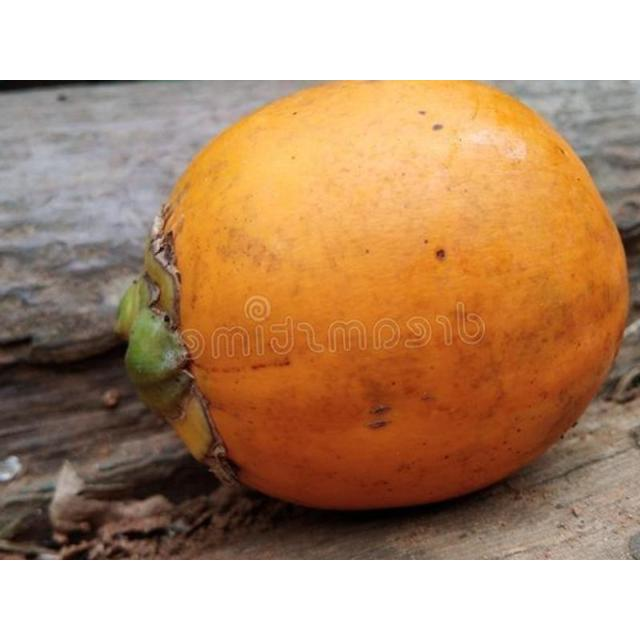good: (114, 80, 630, 514)
